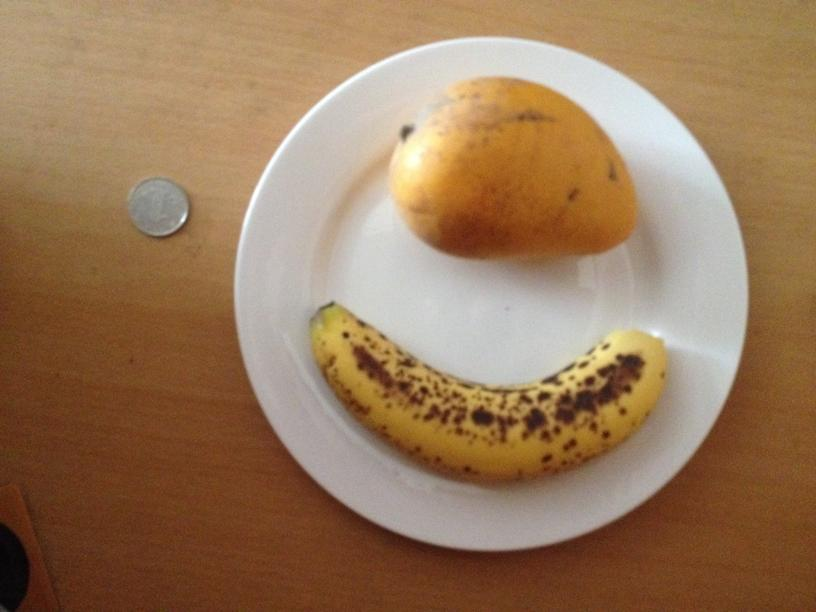banana: (311, 304, 666, 485)
coin: (128, 177, 189, 236)
mango: (392, 75, 635, 260)
